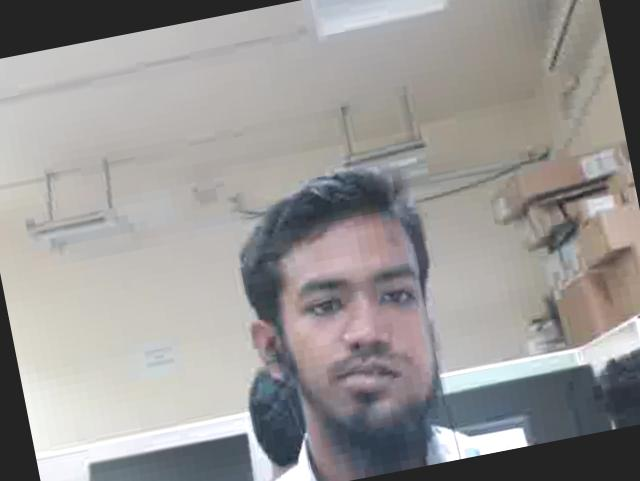bingung: (264, 210, 452, 438)
